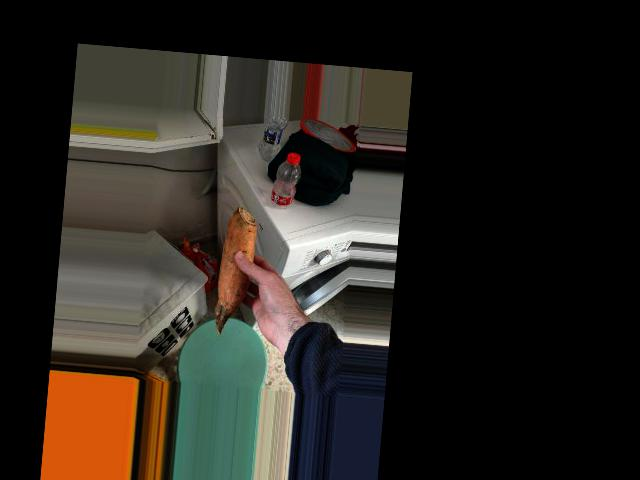sweet_potato: (215, 218, 261, 327)
